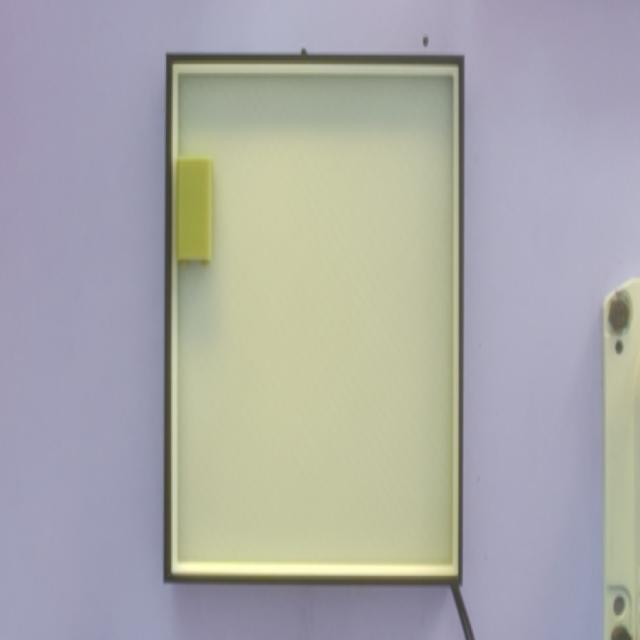bateria: (175, 162, 213, 271)
mesa: (163, 55, 464, 586)
